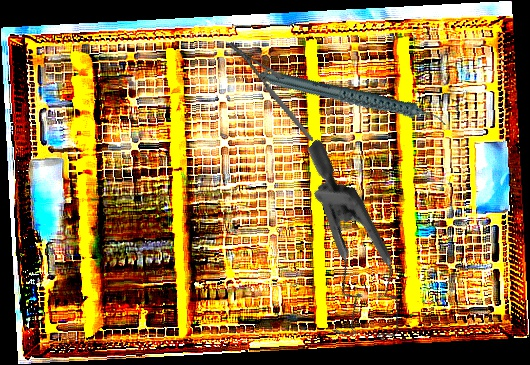Handpiece: (257, 33, 449, 165)
Needle Holder: (227, 27, 314, 157)
Speculum: (228, 137, 460, 364)
